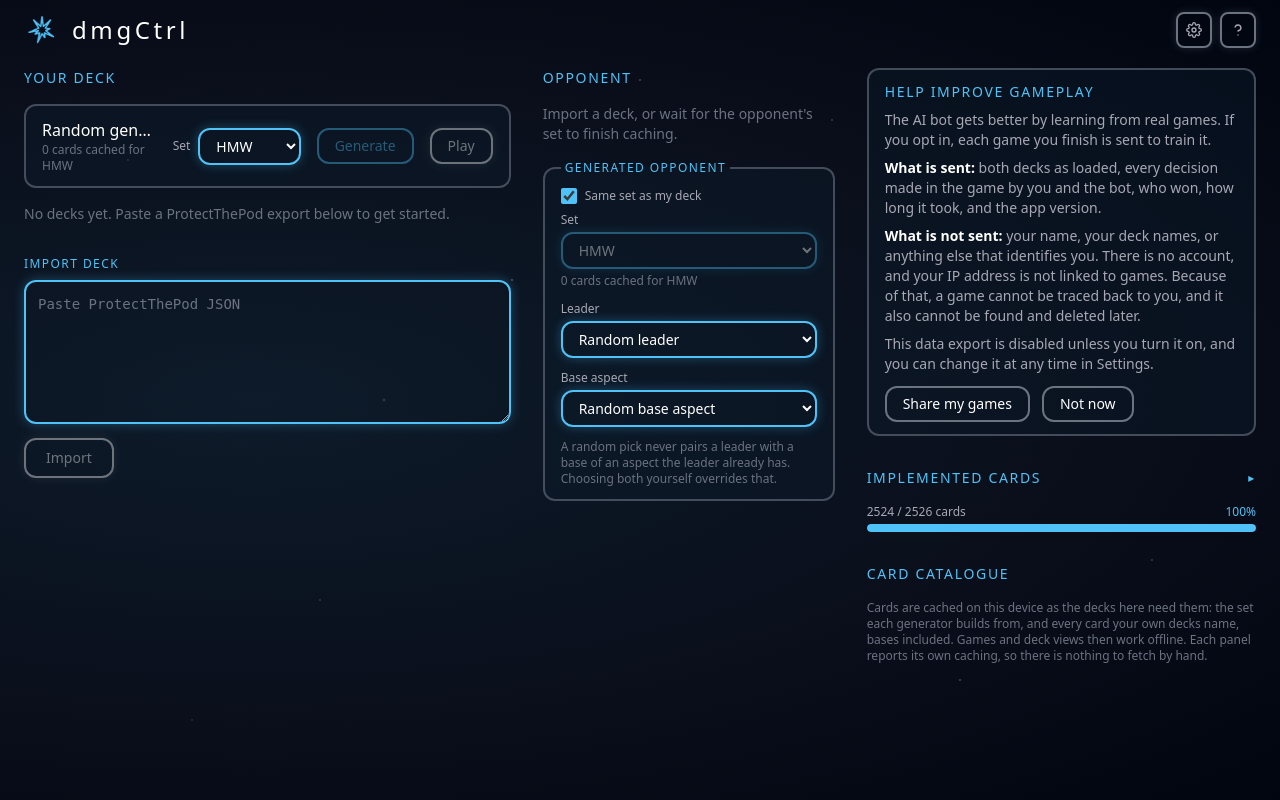
Test: App shell › opens help from the header without leaving the current screen
Click the button named "help" at (1238, 30), box [1220,12,1256,48]
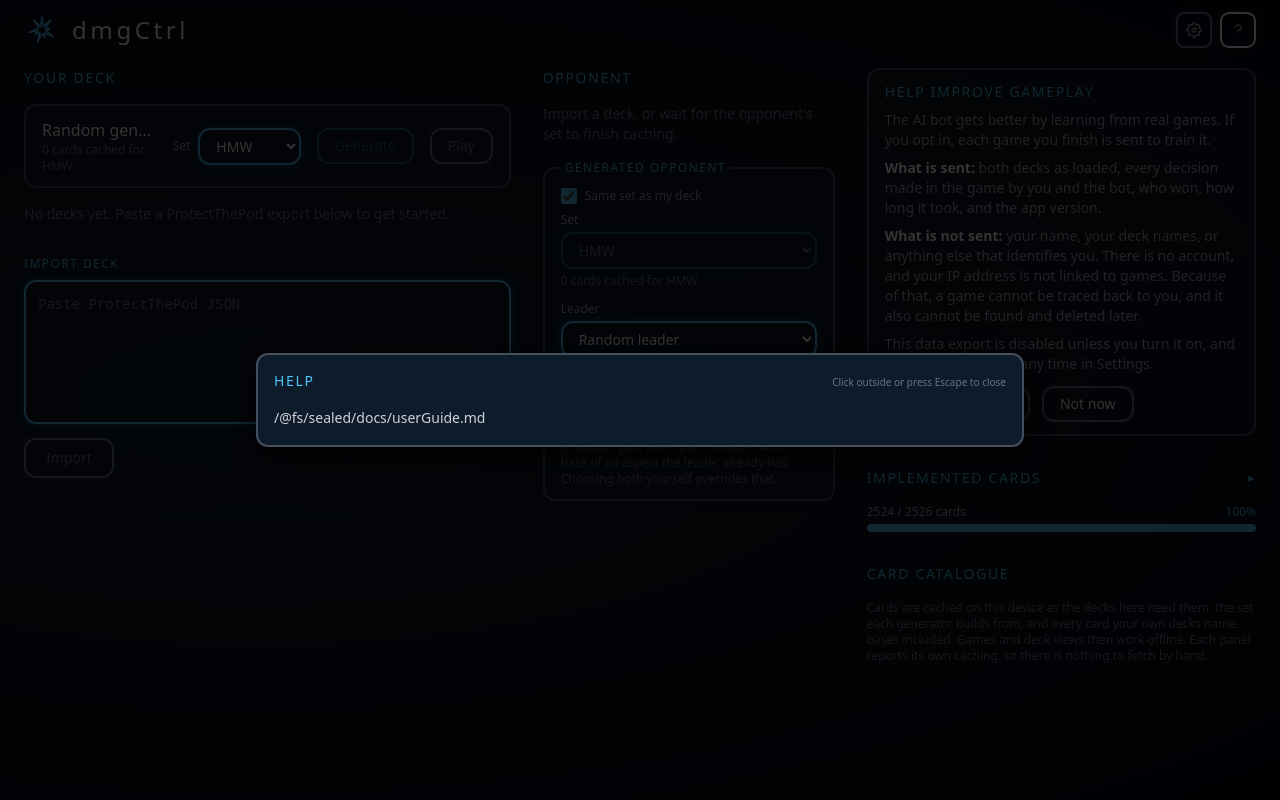
expect the element with test id "help-overlay" is shown: met
Click the element with test id "help-overlay" at (640, 400), box [0,0,1279,799]
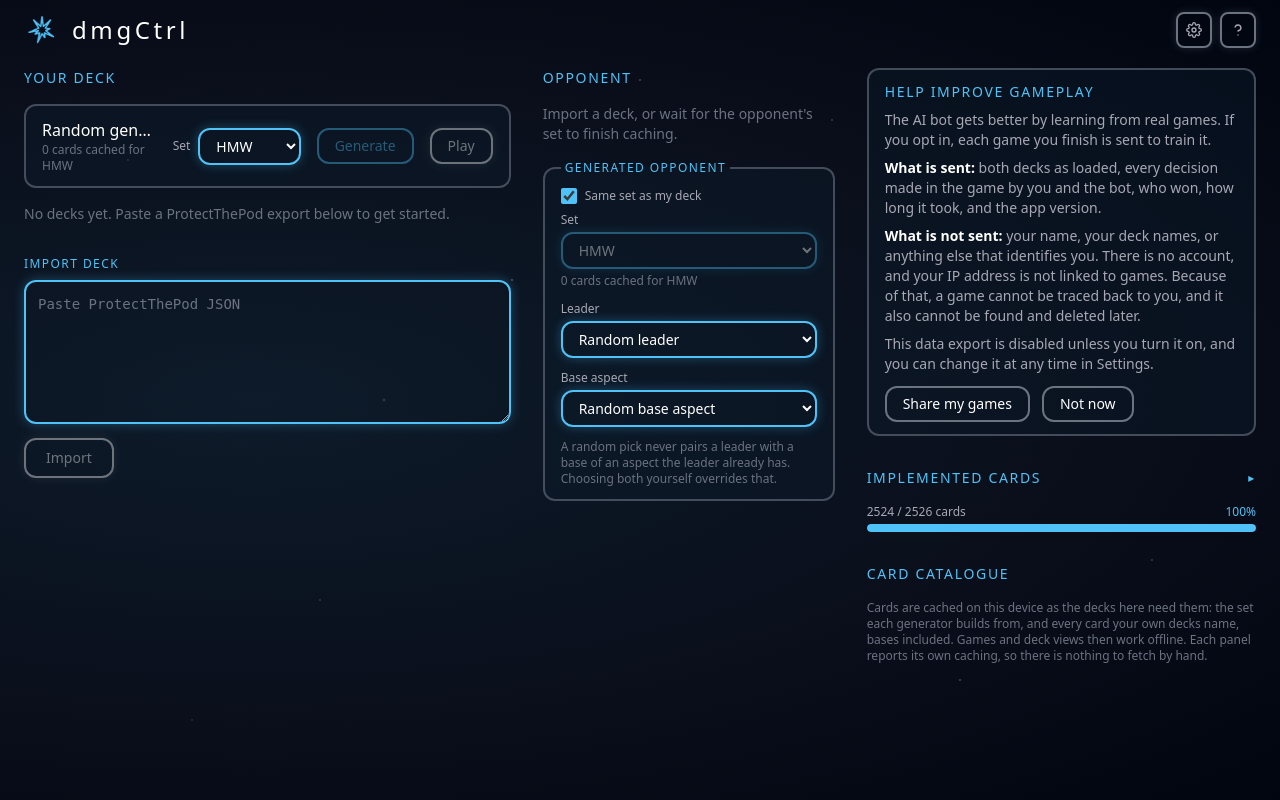
expect the element with test id "help-overlay" is gone: met
